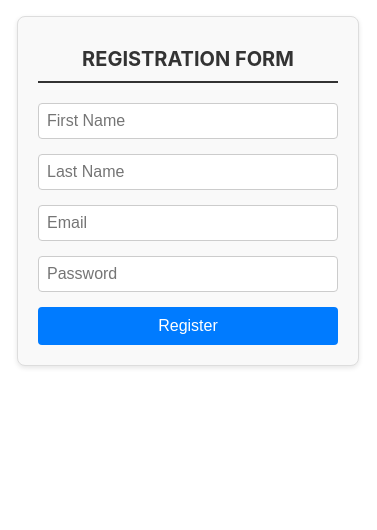
Test case: UserForm › when register button is clicked with empty fields it should show validation errors
Click the button "Register" at (188, 326), box [38, 307, 338, 345]
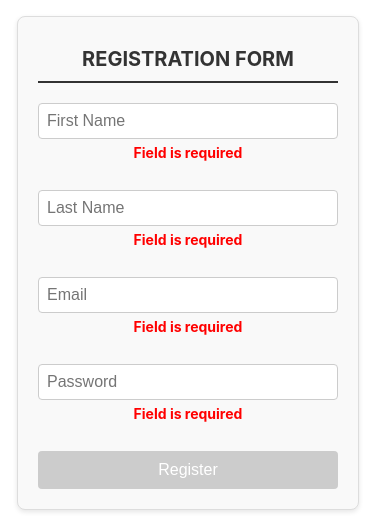
Result: the 1st element with placeholder "First Name" reads "Field is required" at [134, 144, 242, 161]
Result: the 2nd element with placeholder "Last Name" reads "Field is required" at [134, 231, 242, 248]
Result: the 3rd element with placeholder "Email" reads "Field is required" at [134, 318, 242, 335]
